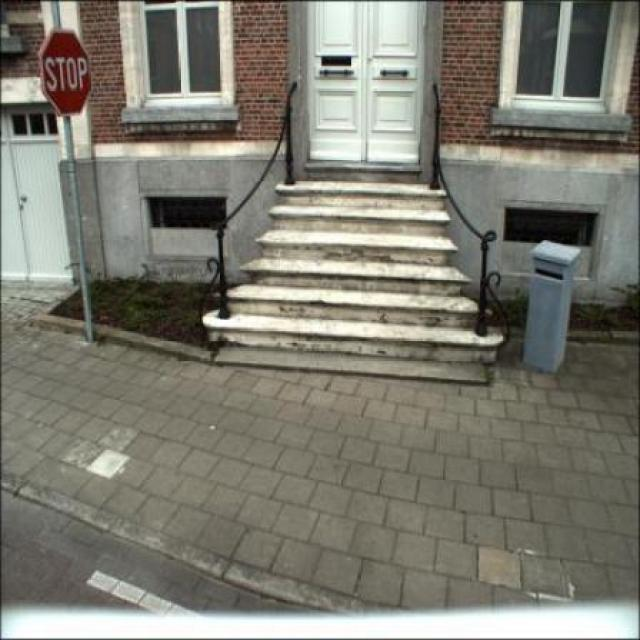stop_sign: (38, 27, 93, 117)
